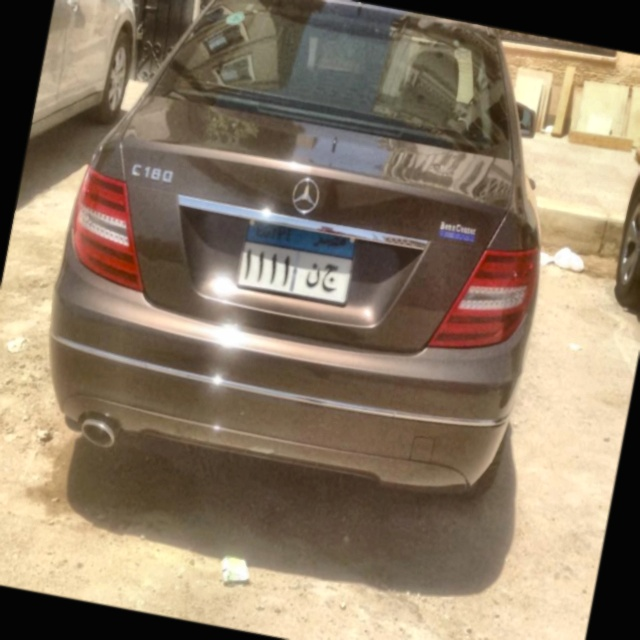License Plate: (233, 218, 359, 309)
